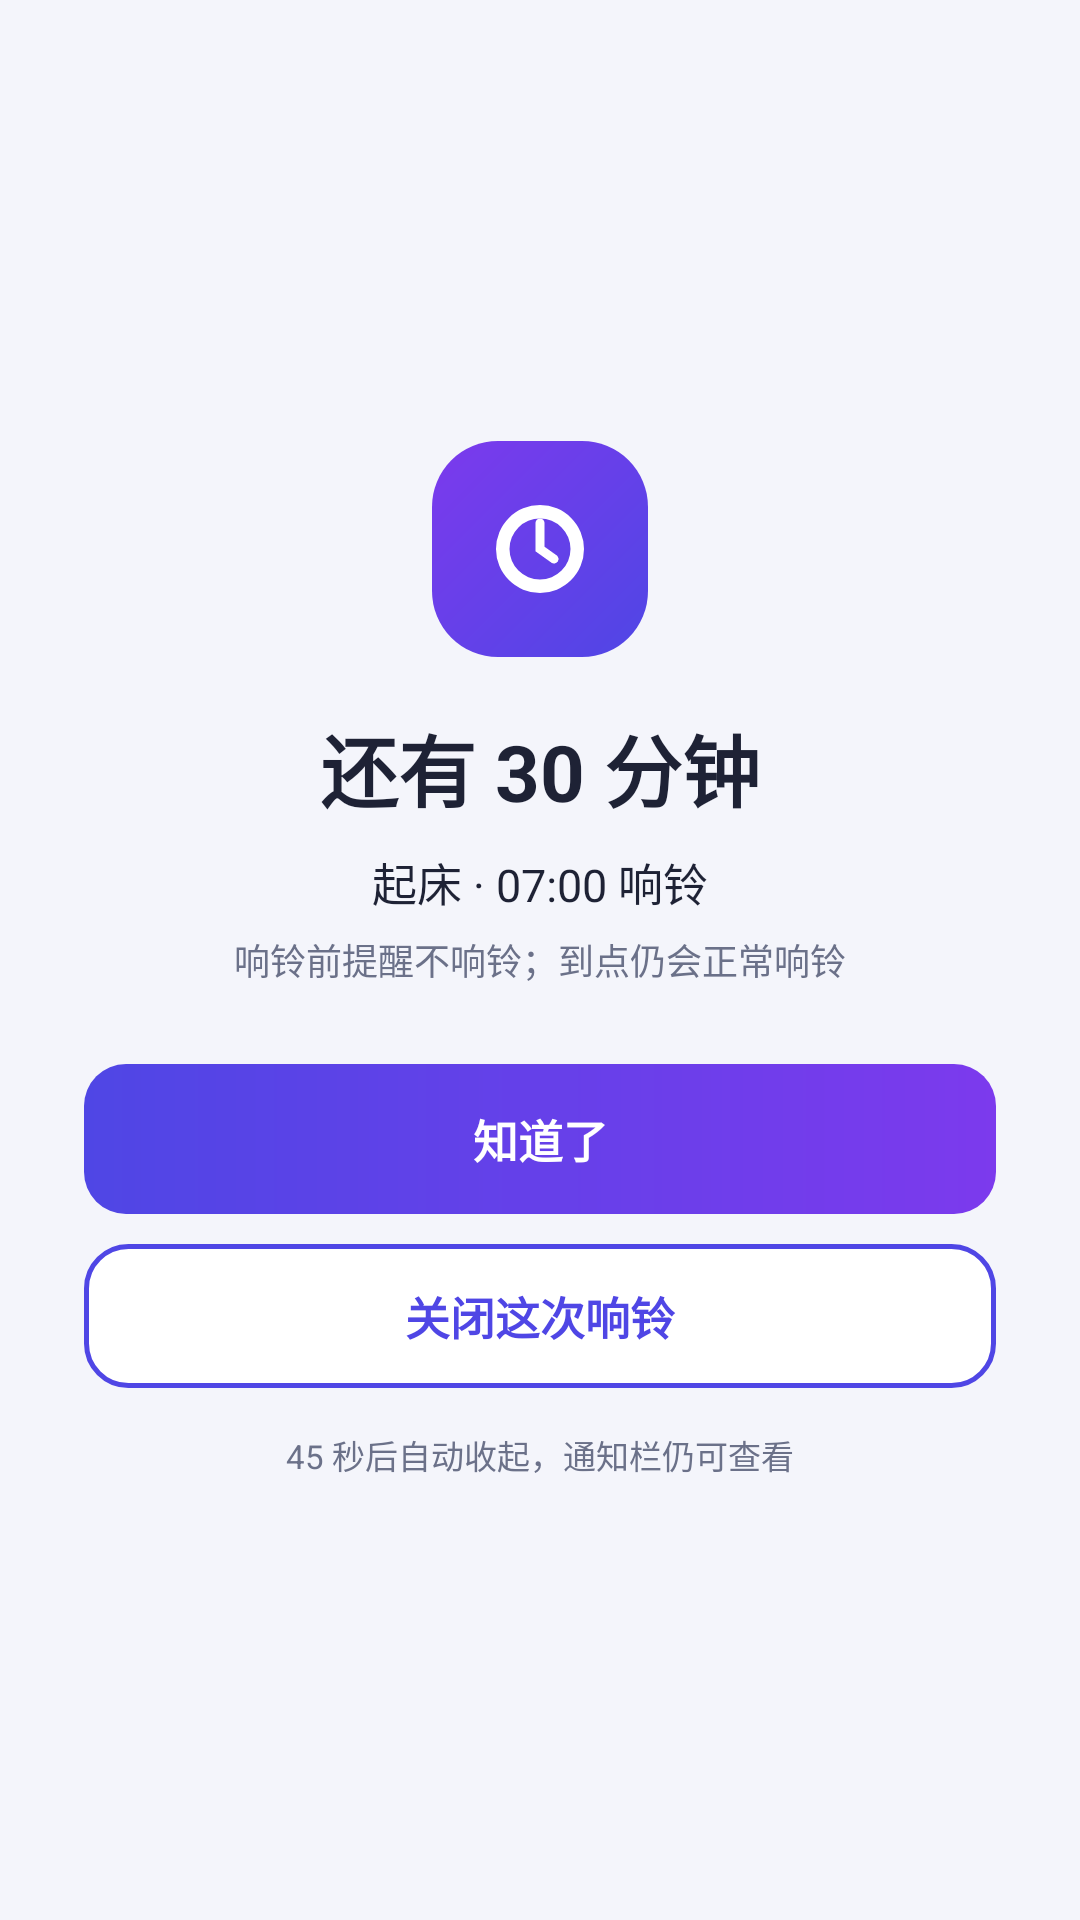

Icon click points for this 1080px x 1920px phone screenshot, format point (x, y):
clock: point (540, 549)
